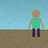person: (28, 10, 44, 37)
